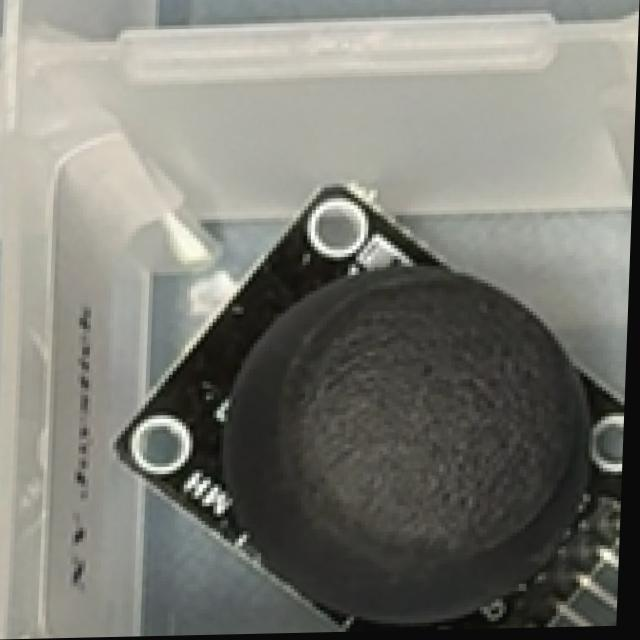Push Button: (102, 163, 633, 637)
